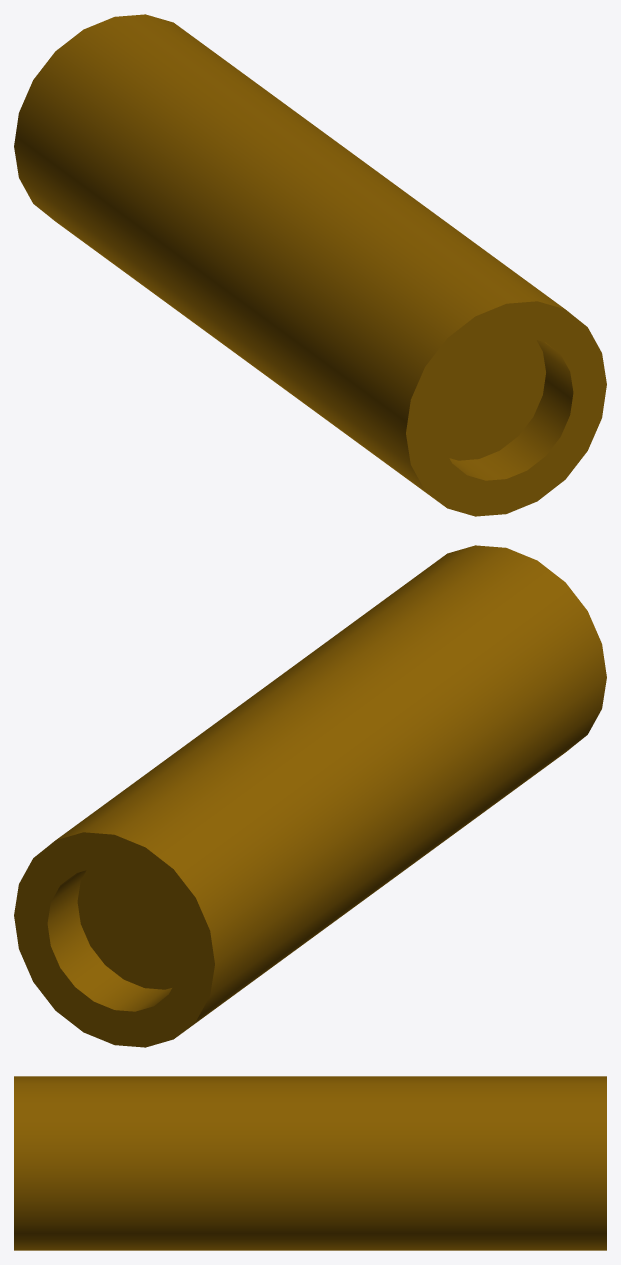
Rendered from log1.fbx.
The picture shows the model from 3 angles, top to bottom: view 1: azimuth 30°, elevation 25°; view 2: azimuth 150°, elevation 25°; view 3: azimuth 270°, elevation 25°; orthographic projection. The views are drawn at different scales.
Visible parts, largest first — view 1: pCylinder1; view 2: pCylinder1; view 3: pCylinder1.
Boxes of the visible parts, x1=… form: pCylinder1: x1=14, y1=14, x2=606, y2=516; pCylinder1: x1=14, y1=545, x2=606, y2=1047; pCylinder1: x1=14, y1=1076, x2=606, y2=1250.
Bounding box in the file's own units: 2.94 × 2.94 × 9.92.
